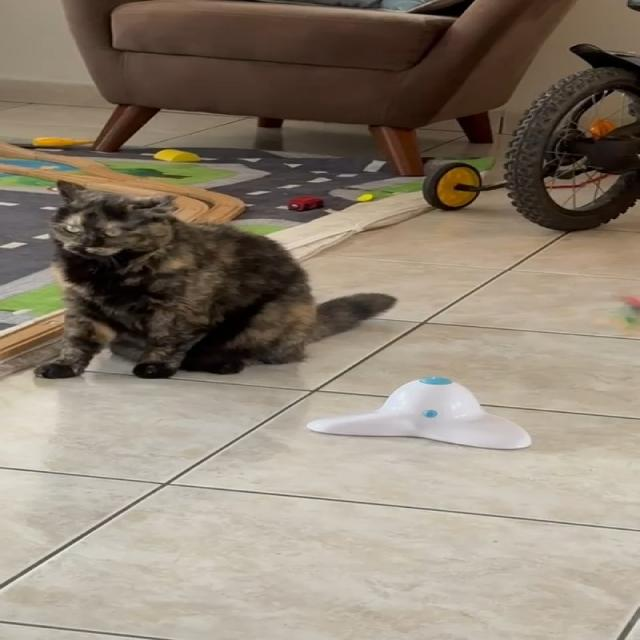authorized: (34, 178, 398, 380)
